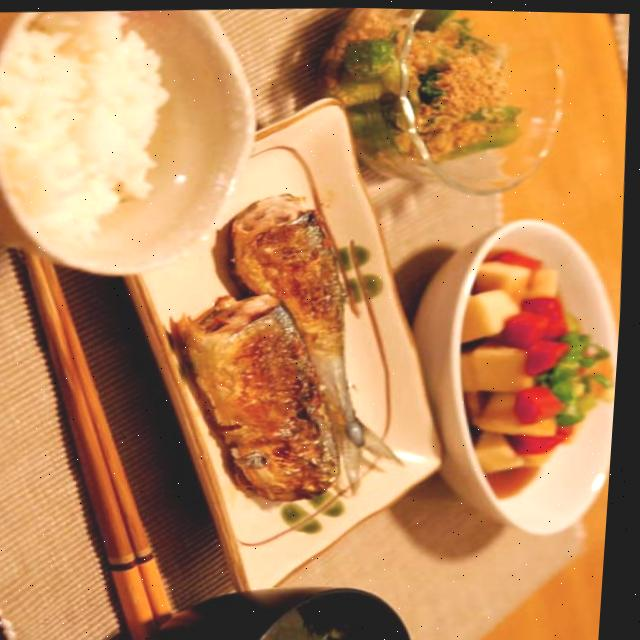熟制海鲜: (157, 161, 410, 536)
